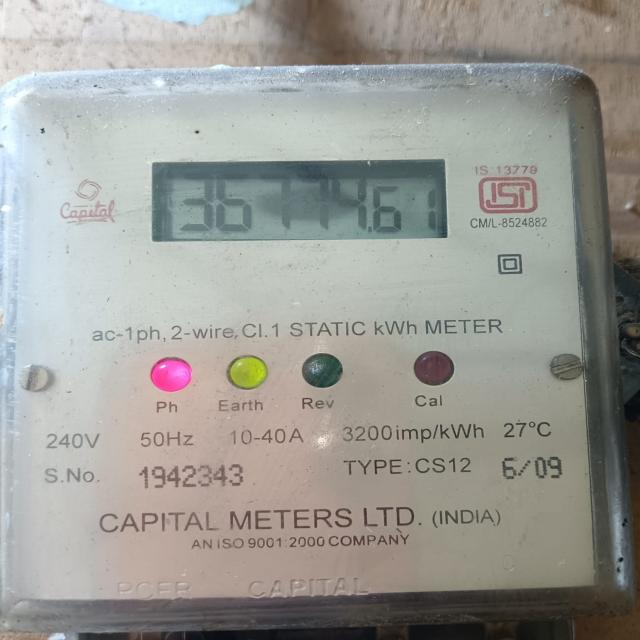display: (151, 162, 462, 246)
